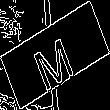M_NW: (31, 22, 79, 88)
